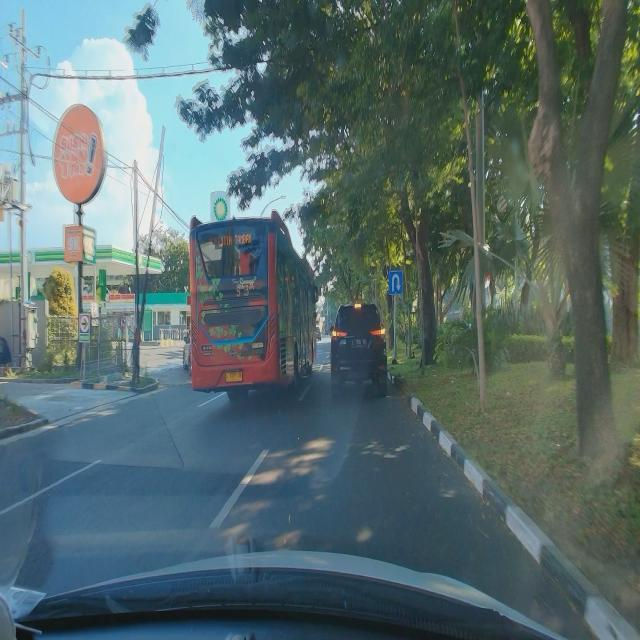bus: (188, 209, 320, 401)
car: (328, 301, 389, 404)
license-plate: (225, 372, 243, 382), (351, 338, 367, 348)
